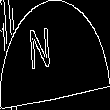N_S: (42, 28, 68, 82)
